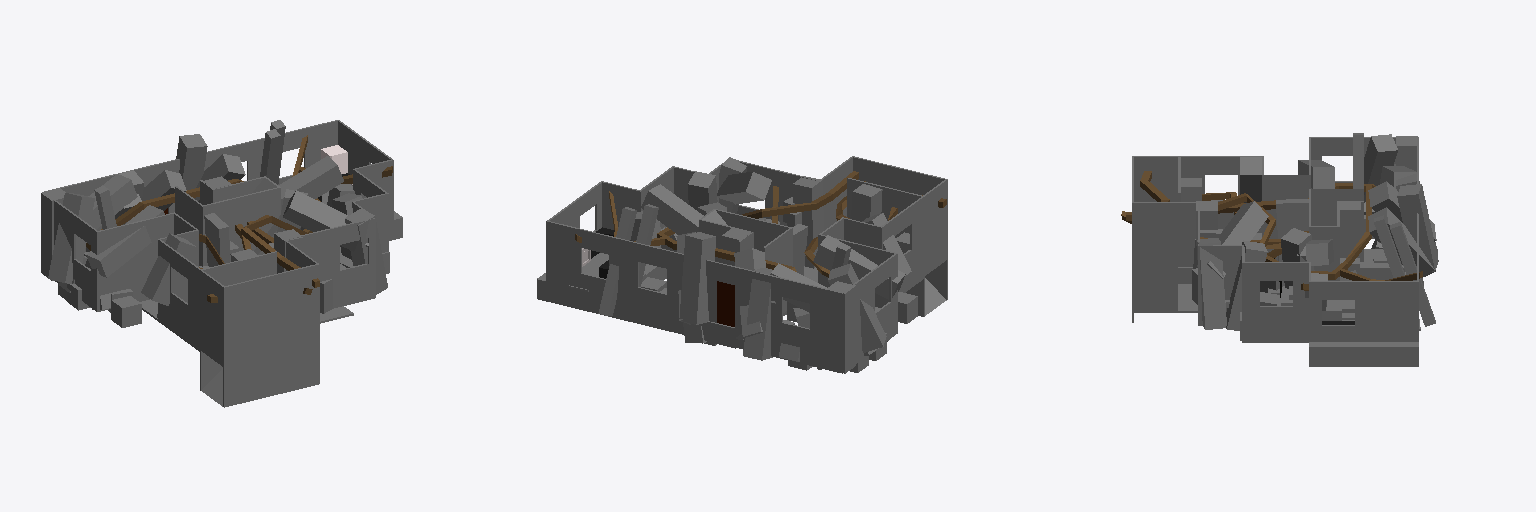
The model's file is 3_Emblocado.obj.
3 views of the same model, side by side, from view 1: azimuth 30°, elevation 25°; view 2: azimuth 150°, elevation 25°; view 3: azimuth 270°, elevation 25° (orthographic).
Parts seen in each view (by area): view 1: group106_pasted__group104_pasted__pasted__group102_pasted__paste; view 2: group106_pasted__group104_pasted__pasted__group102_pasted__paste; view 3: group106_pasted__group104_pasted__pasted__group102_pasted__paste.
Part boxes in pixels (x1,y1,x2,y2): group106_pasted__group104_pasted__pasted__group102_pasted__paste: (41, 120, 402, 407); group106_pasted__group104_pasted__pasted__group102_pasted__paste: (537, 156, 947, 373); group106_pasted__group104_pasted__pasted__group102_pasted__paste: (1121, 133, 1438, 366).
Bounding box in the file's own units: 16.92 × 7.16 × 14.38.